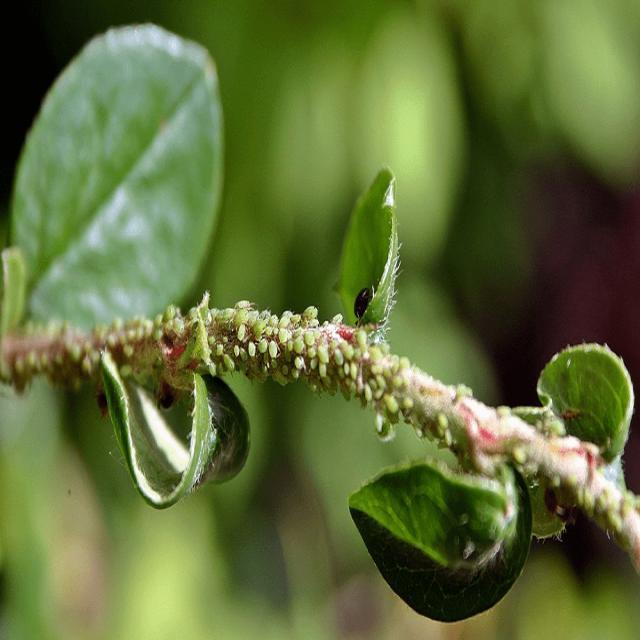Aphids: (301, 292, 326, 330), (276, 302, 297, 343), (233, 287, 251, 318), (233, 317, 249, 346)
